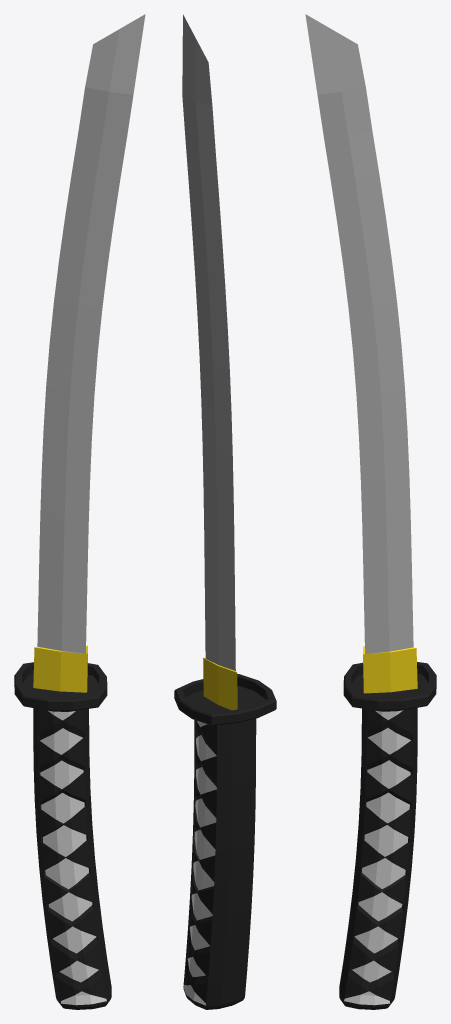
Rendered from Katana.fbx.
The picture shows the model from 3 angles, left to right: view 1: azimuth 90°, elevation 25°; view 2: azimuth 210°, elevation 25°; view 3: azimuth 270°, elevation 25°; orthographic projection. The views are drawn at different scales.
Parts seen in each view (by area): view 1: Katana; view 2: Katana; view 3: Katana.
Boxes of the visible parts, left/top/right/bottom form: Katana: left=14, top=14, right=145, bottom=1009; Katana: left=174, top=14, right=276, bottom=1009; Katana: left=305, top=14, right=436, bottom=1009.
Bounding box in the file's own units: 53.91 × 614 × 73.97.
